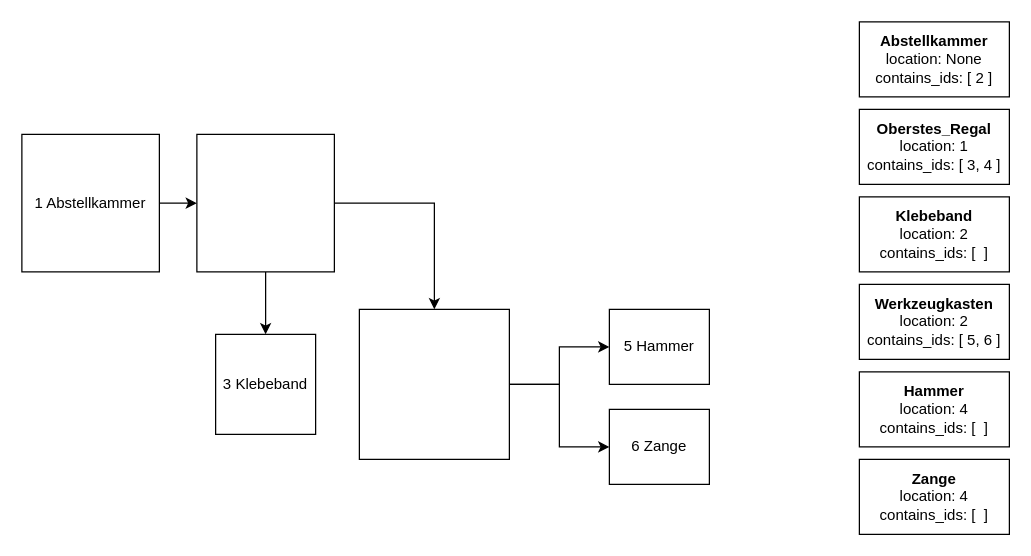
Some shapes in this 1031 by 556 pixel diagram are drawn without their labels. Here are the shapes that lost their labels. From the top down, the centre of each, then its label:
At [265,202]: "2 Oberstes_Regal".
At [433,383]: "4 Werkzeugkasten".
